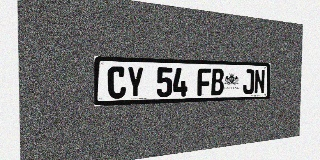4: (173, 68, 188, 97)
5: (157, 67, 172, 97)
B: (211, 68, 224, 95)
C: (108, 66, 126, 99)
F: (197, 68, 211, 96)
J: (243, 69, 254, 94)
N: (254, 69, 265, 94)
Y: (127, 66, 144, 98)
